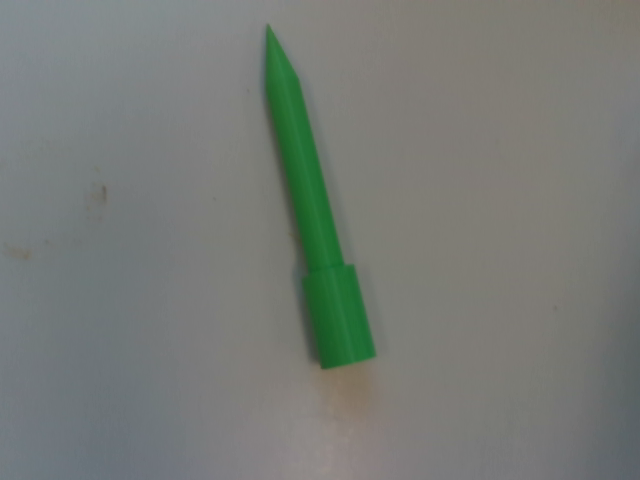Probe: (256, 16, 382, 373)
